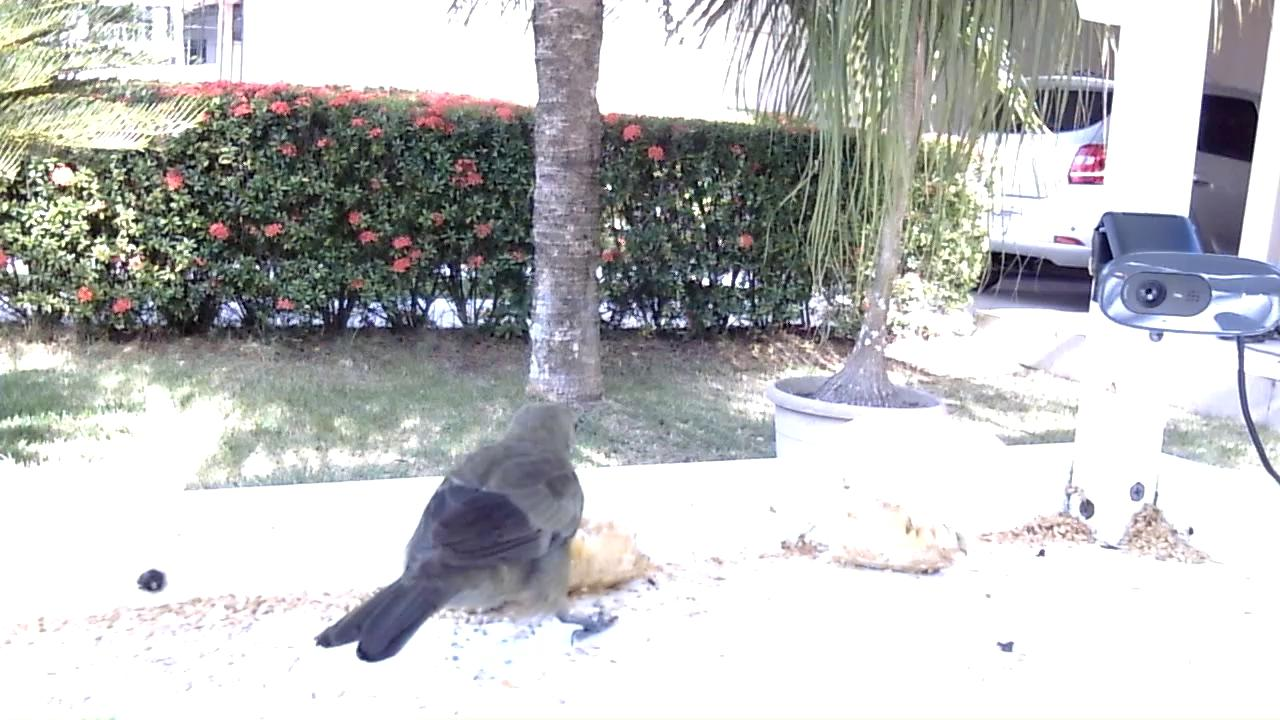sanhaco_do_coqueiro: (316, 402, 620, 665)
